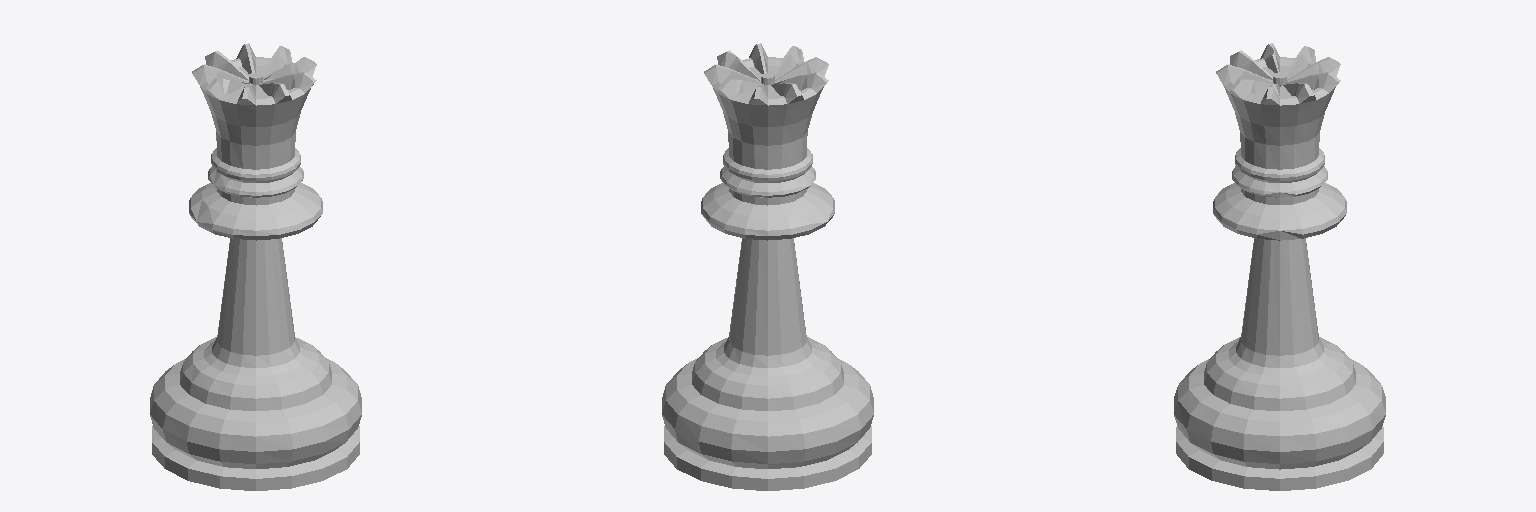
File: light_queen.obj
3 views of the same model, side by side, from view 1: azimuth 30°, elevation 25°; view 2: azimuth 150°, elevation 25°; view 3: azimuth 270°, elevation 25° (orthographic).
Visible parts, largest first — view 1: chess_set_dark_queen02; view 2: chess_set_dark_queen02; view 3: chess_set_dark_queen02.
Boxes of the visible parts, x1=… form: chess_set_dark_queen02: x1=150, y1=43, x2=361, y2=490; chess_set_dark_queen02: x1=662, y1=43, x2=873, y2=490; chess_set_dark_queen02: x1=1174, y1=43, x2=1385, y2=490.
Size of the model in its own units: 0.0394 by 0.0769 by 0.0388.